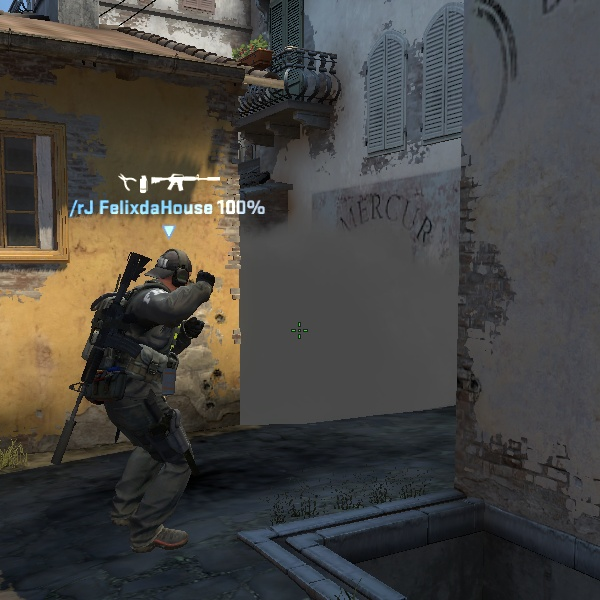ct_body: (54, 239, 237, 522)
ct_head: (136, 241, 206, 301)
